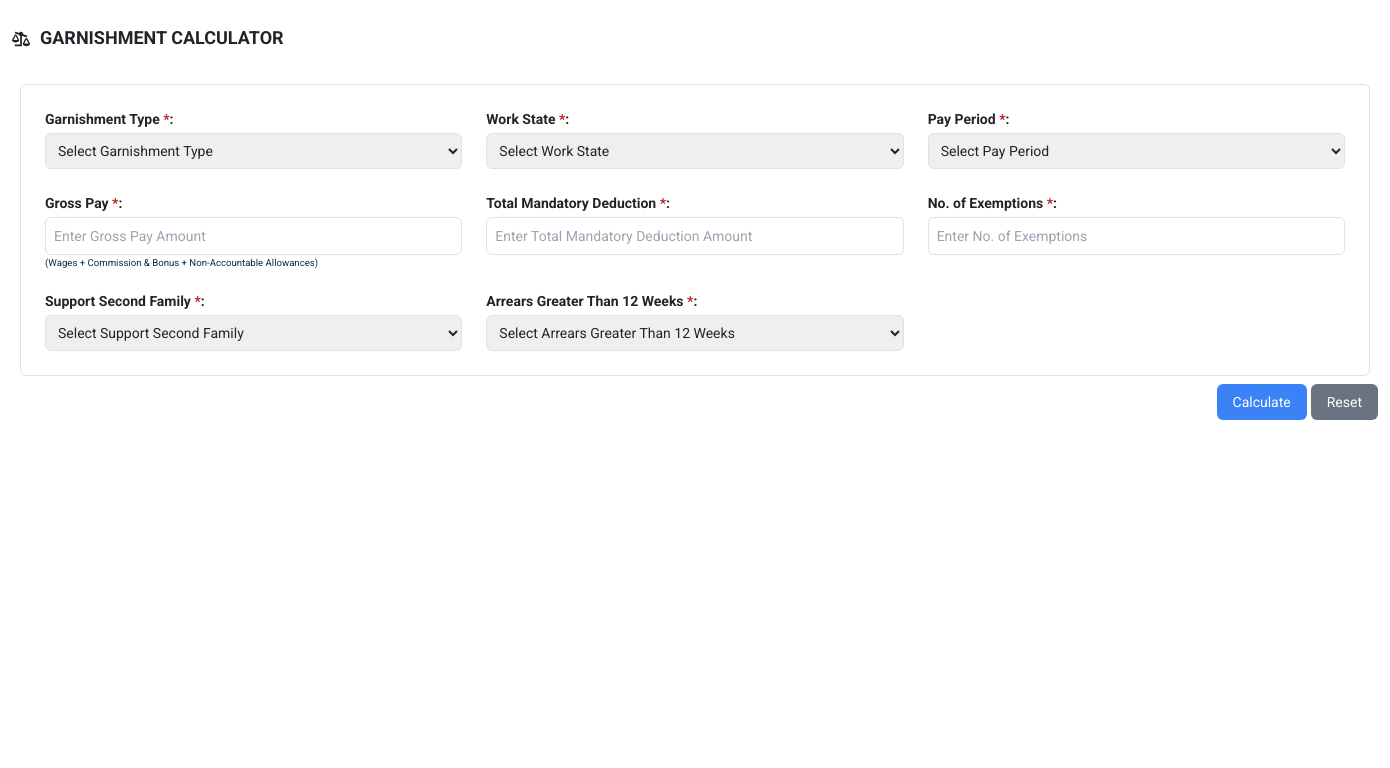
Test: Garnishment2 Component › shows additional fields for Child Support
// Select Child Support
Select "Child Support" in the dropdown labelled "Garnishment Type *:": (254, 151) [45, 133, 462, 169]
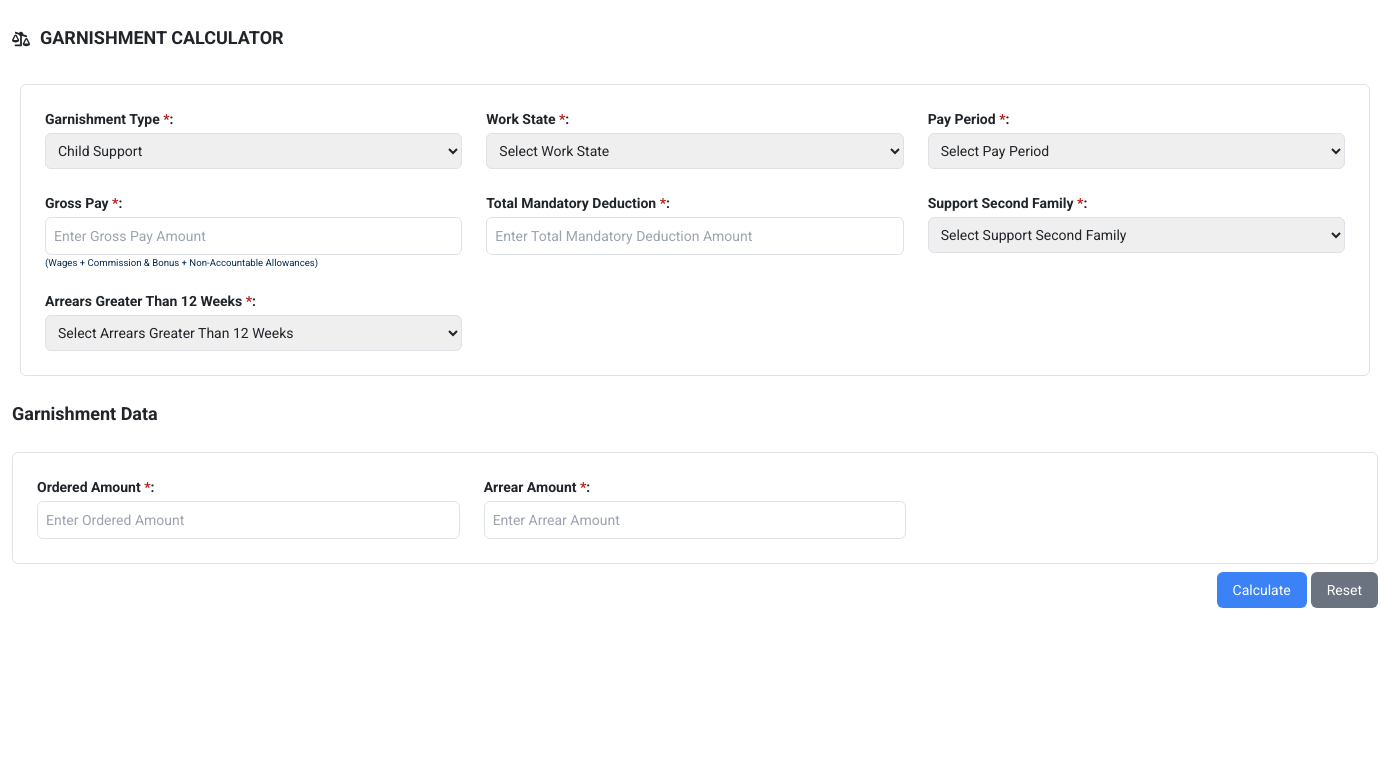
Expected: the dropdown labelled "Support Second Family *:" is shown, [928, 217, 1345, 253]
Now the number field labelled "Ordered Amount *:" is shown, box [37, 501, 460, 539]
Now the number field labelled "Arrear Amount *:" is shown, box [484, 501, 906, 539]
